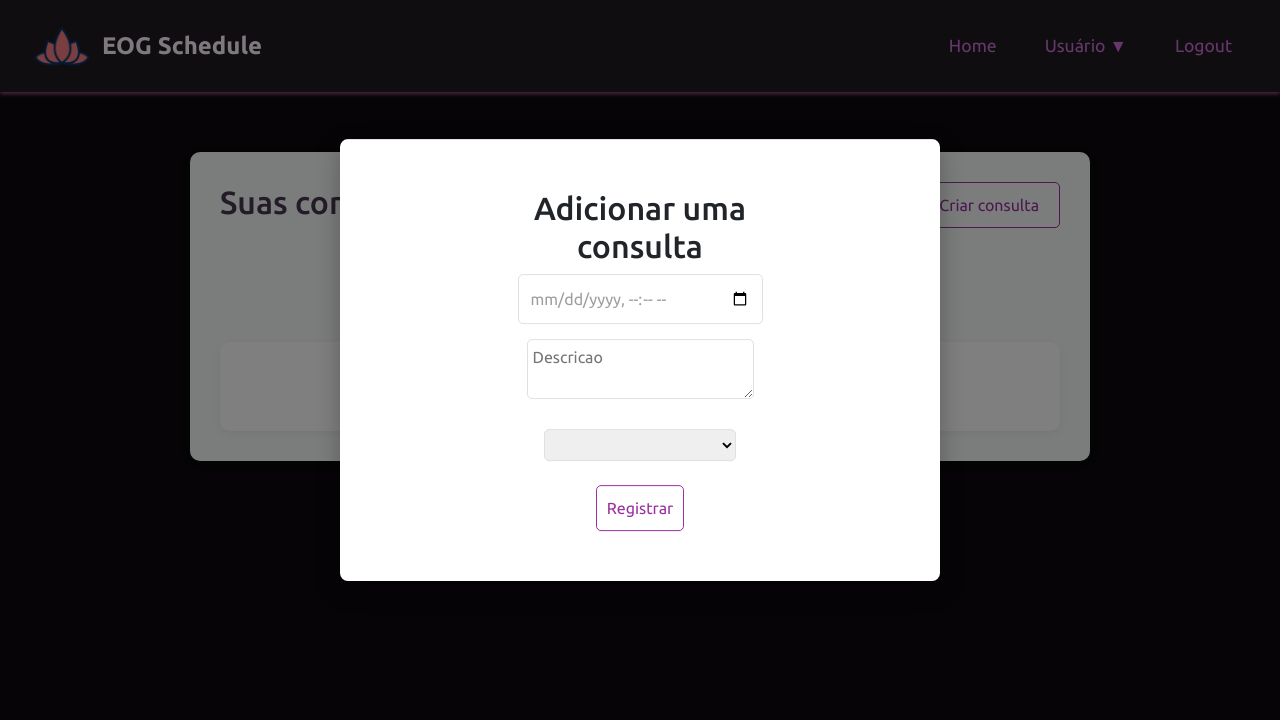
Test: Testes Frontend - EOG SCHEDULE › Deve criar uma nova consulta selecionando médico da lista
This screenshot has width=1280, height=720.
Type "2025-12-31T15:30" into the field named "data".
click(641, 299); type("2025-12-31T15:30")  # box [518,274,763,324]
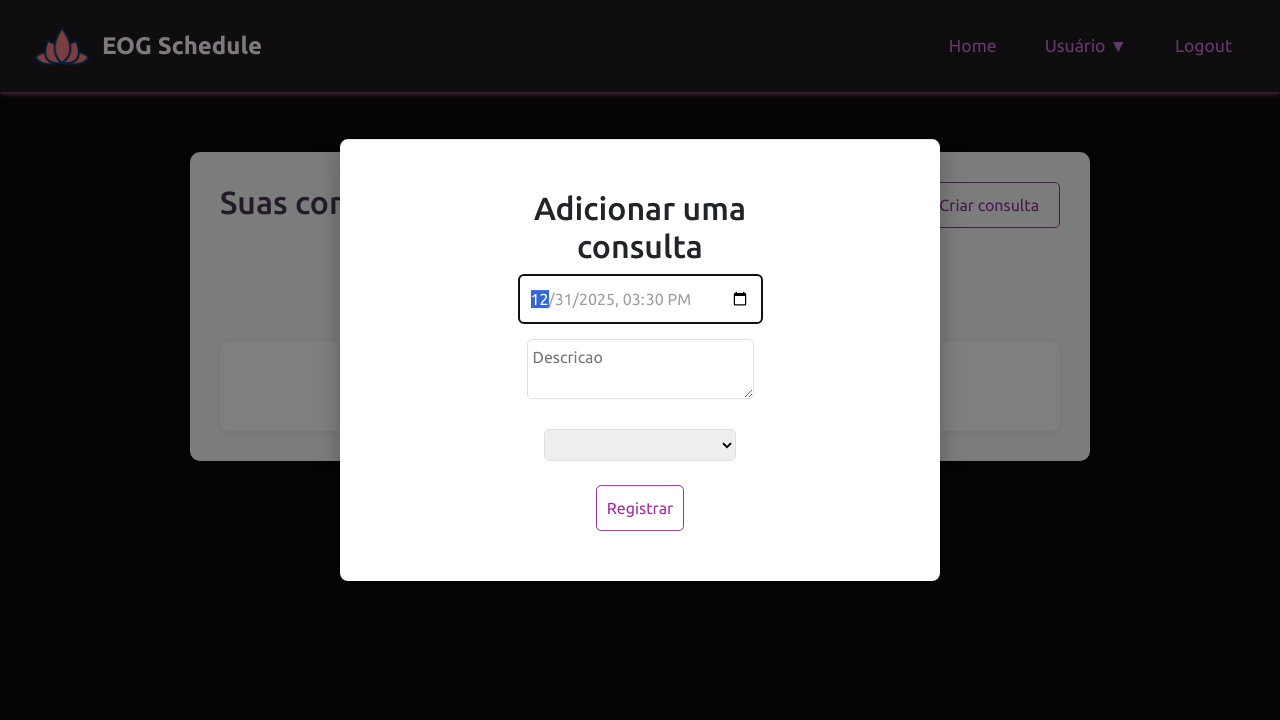
Type "Consulta de retorno importante" into the text box named "descricao".
click(641, 369); type("Consulta de retorno importante")  # box [527,339,754,399]
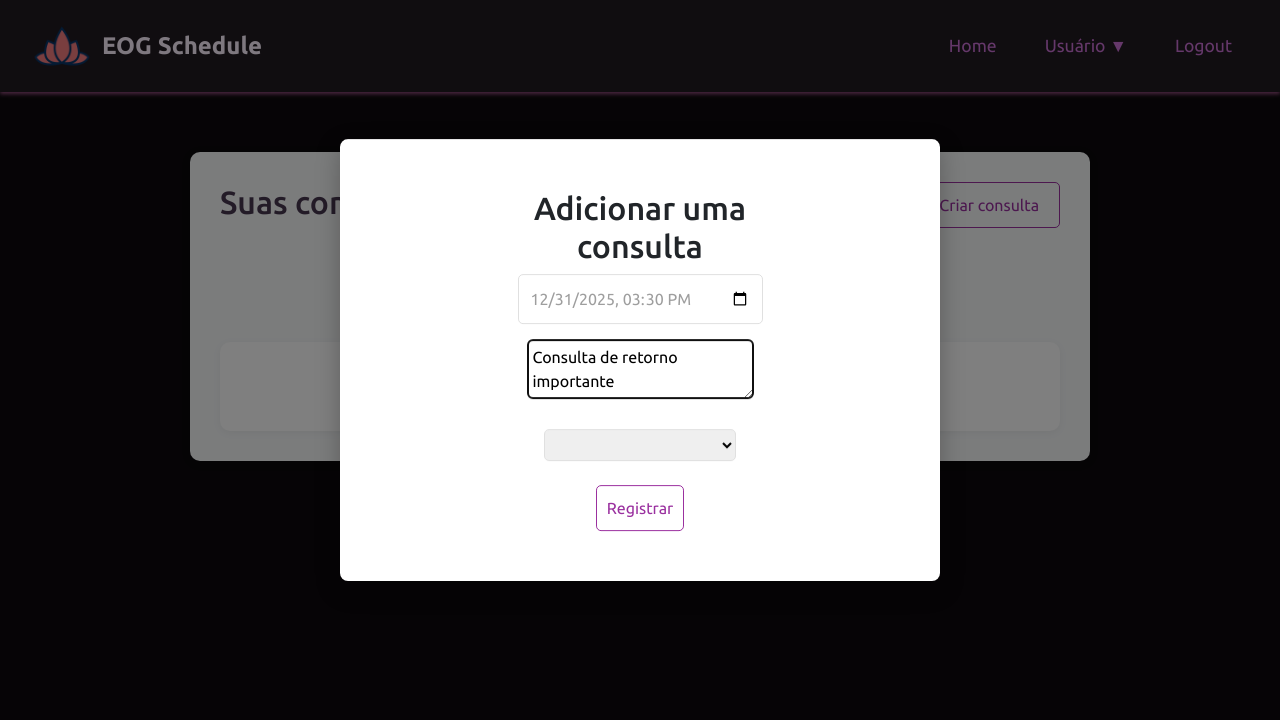
Select "Dr. Silva - Cardiologia" in the dropdown named "select" at (640, 445), box [544,429,736,461]
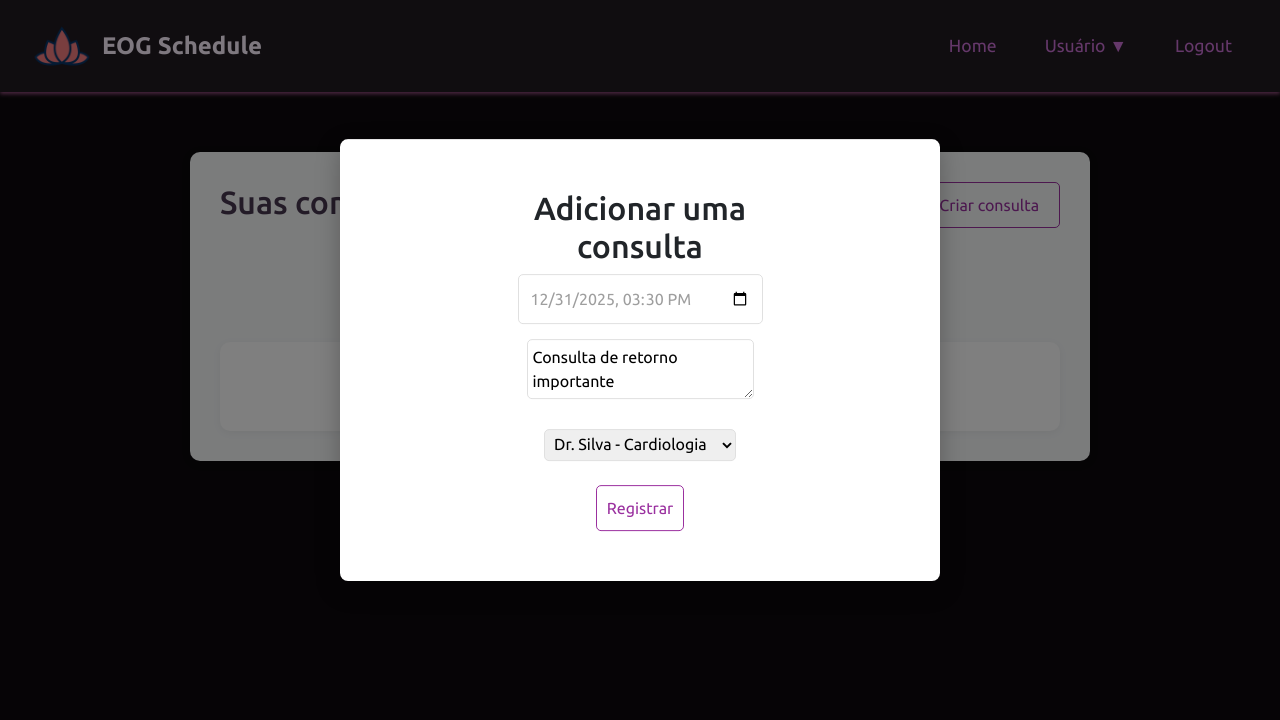
Click the submit button.
click(641, 508)  # box [596,485,685,531]
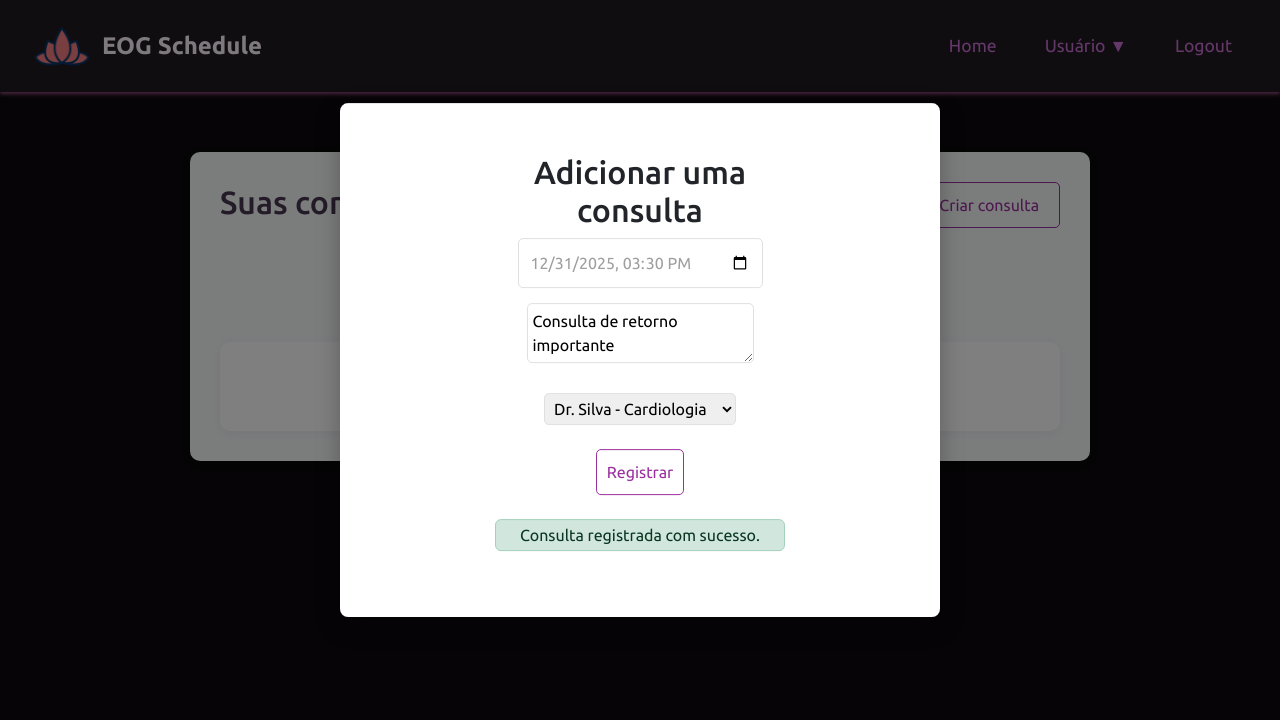
Result: the text "Consulta registrada com sucesso" is shown at [520,526,760,544]
